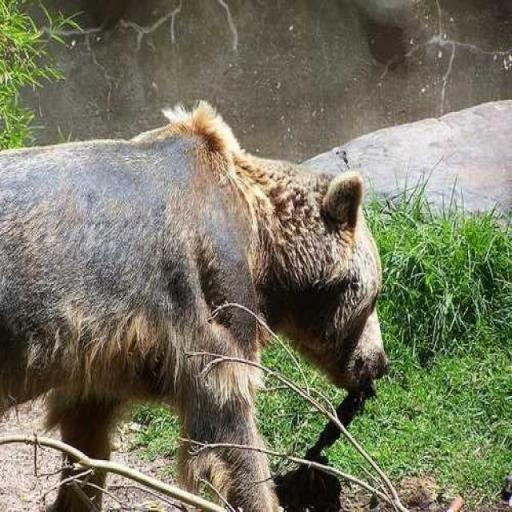Bear: (0, 98, 388, 511)
